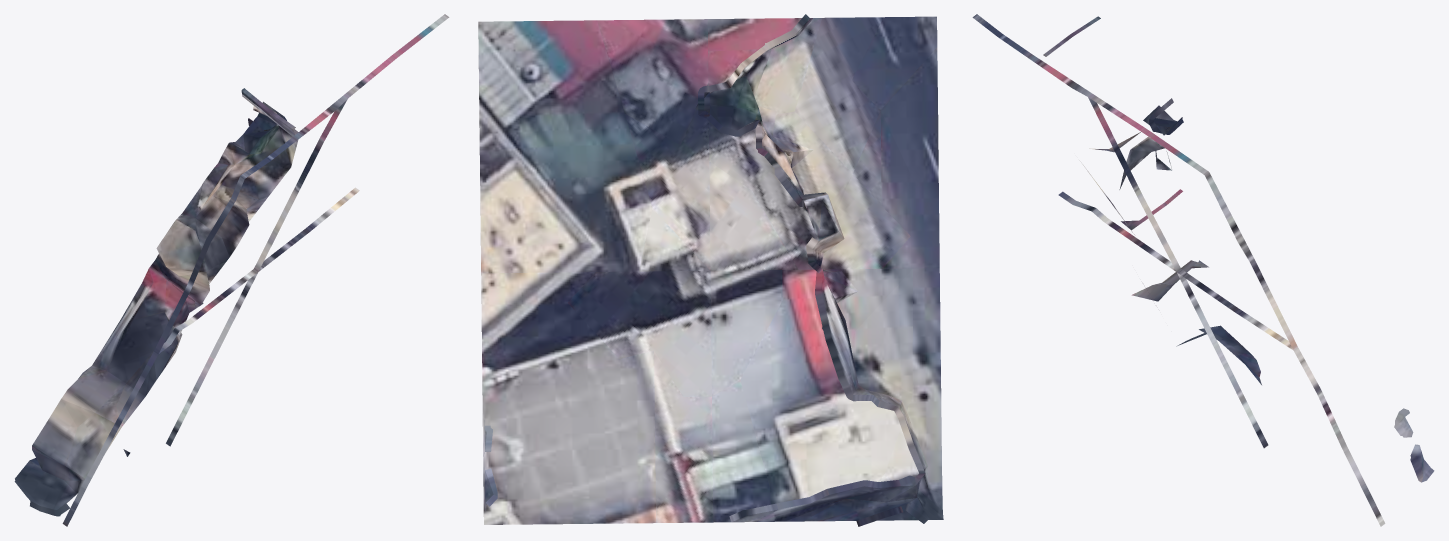
3 renders of one model, left to right at view 1: azimuth 30°, elevation 25°; view 2: azimuth 150°, elevation 25°; view 3: azimuth 270°, elevation 25°, orthographic. The views are drawn at different scales.
Size of the model in its own units: 39.95 by 37.31 by 36.29.
1 material, 1 textured.
